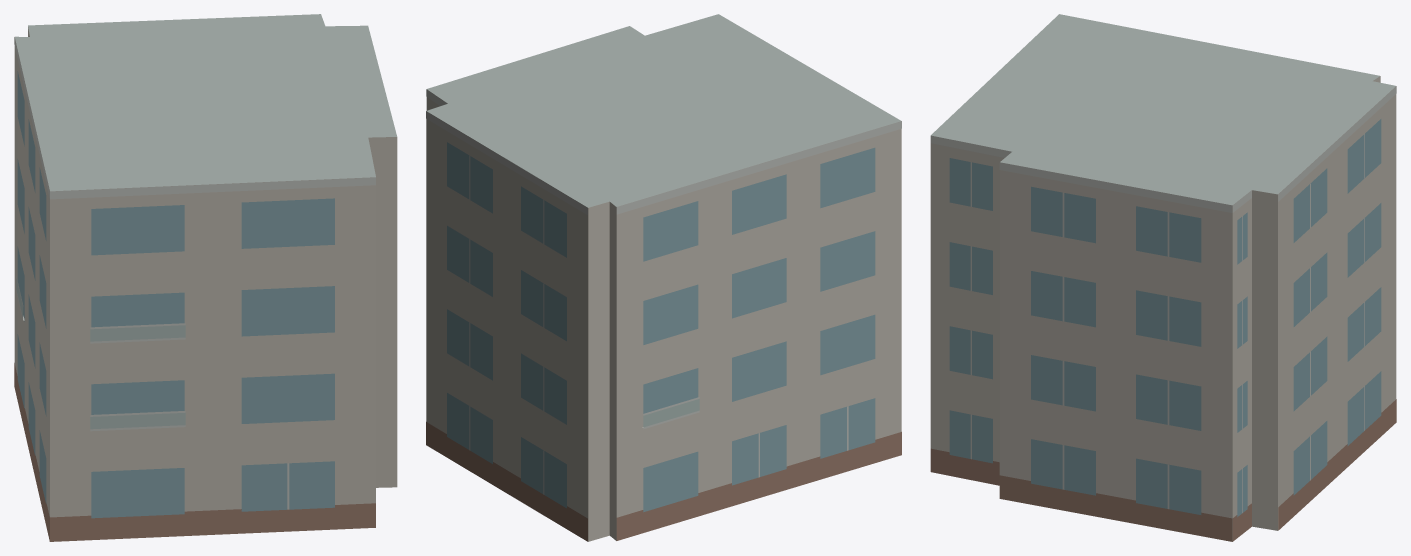
Rendered from survey-upis-32563984.glb.
The picture shows the model from 3 angles, left to right: view 1: azimuth 30°, elevation 25°; view 2: azimuth 150°, elevation 25°; view 3: azimuth 270°, elevation 25°; orthographic projection. The views are drawn at different scales.
Visible parts, largest first — view 1: survey-upis-32563984.tmp; view 2: survey-upis-32563984.tmp; view 3: survey-upis-32563984.tmp.
Part boxes in pixels (x1,y1,x2,y2): survey-upis-32563984.tmp: (14, 14, 397, 541); survey-upis-32563984.tmp: (426, 14, 901, 541); survey-upis-32563984.tmp: (930, 14, 1396, 541).
Bounding box in the file's own units: 12.93 × 10.6 × 13.31.
